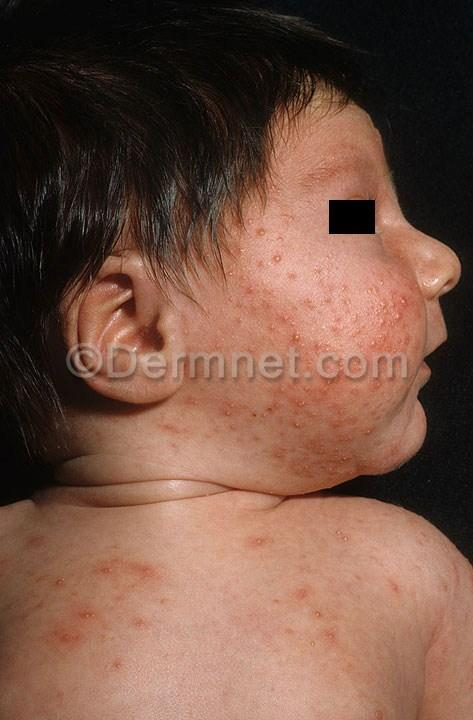Acne: (235, 383, 364, 468), (251, 245, 366, 330), (67, 527, 182, 602), (17, 593, 142, 660), (261, 563, 361, 636)
